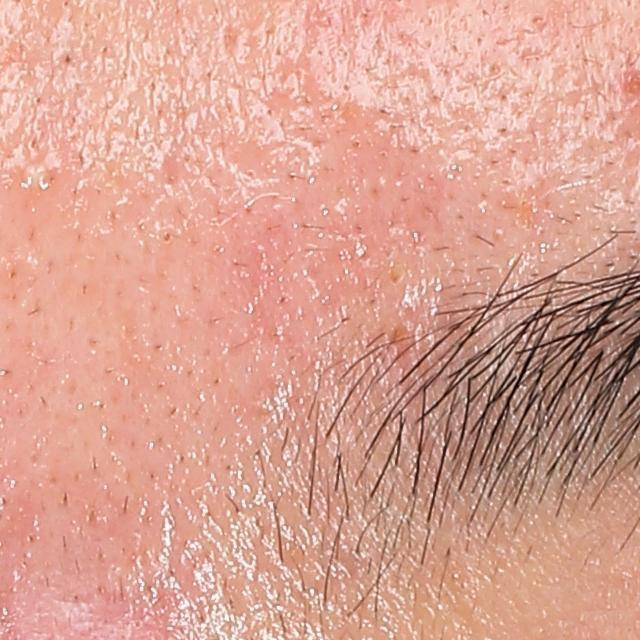pustule: (20, 159, 58, 200)
